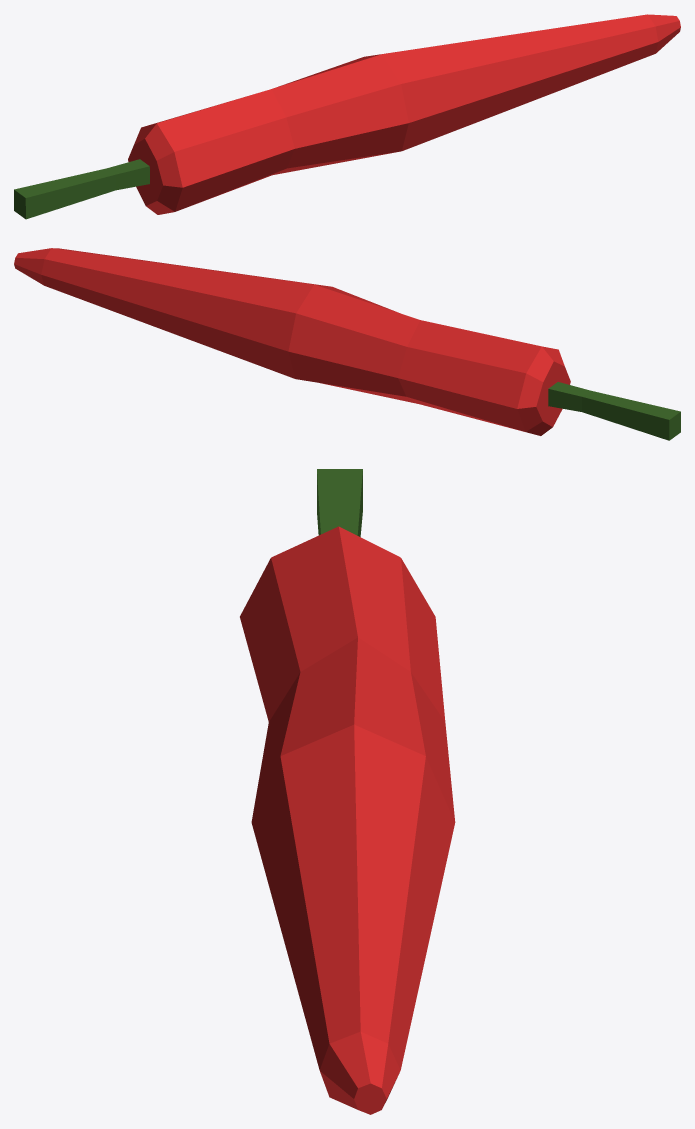
The model's file is pepper.fbx.
The picture shows the model from 3 angles, top to bottom: view 1: azimuth 30°, elevation 25°; view 2: azimuth 150°, elevation 25°; view 3: azimuth 270°, elevation 25°; orthographic projection. The views are drawn at different scales.
Parts seen in each view (by area): view 1: pepper; view 2: pepper; view 3: pepper.
Part boxes in pixels (left/top/right/bottom): pepper: left=14, top=14, right=680, bottom=219; pepper: left=14, top=248, right=680, bottom=440; pepper: left=240, top=469, right=455, bottom=1114.
Bounding box in the file's own units: 12.1 × 1.78 × 1.74.
1 material, 1 textured.
